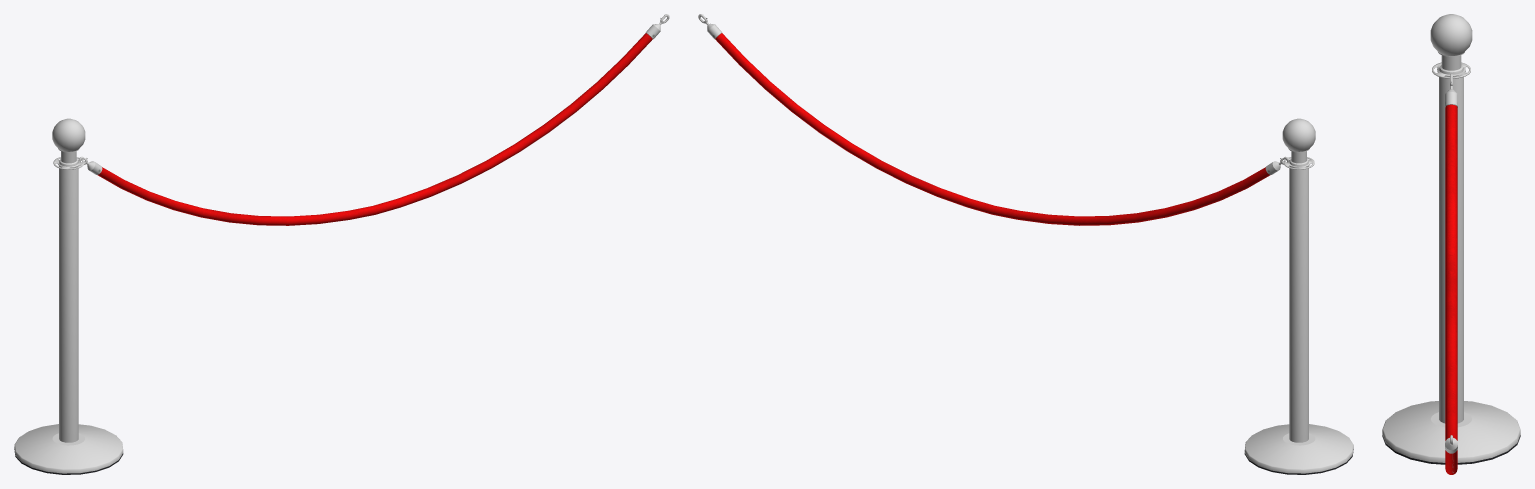
The model's file is BarrierRope01_1.FBX.
The picture shows the model from 3 angles, left to right: view 1: azimuth 30°, elevation 25°; view 2: azimuth 150°, elevation 25°; view 3: azimuth 270°, elevation 25°; orthographic projection. The views are drawn at different scales.
Visible parts, largest first — view 1: BarrierRope01; view 2: BarrierRope01; view 3: BarrierRope01.
Boxes of the visible parts, left/top/right/bottom form: BarrierRope01: left=14, top=14, right=669, bottom=474; BarrierRope01: left=698, top=14, right=1353, bottom=474; BarrierRope01: left=1382, top=14, right=1520, bottom=474.
Bounding box in the file's own units: 212 × 104 × 31.06.
